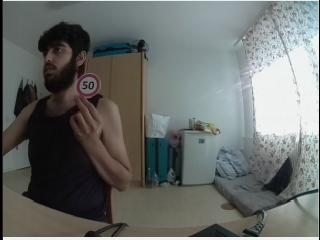Speedlimit_50: (76, 74, 100, 98)
